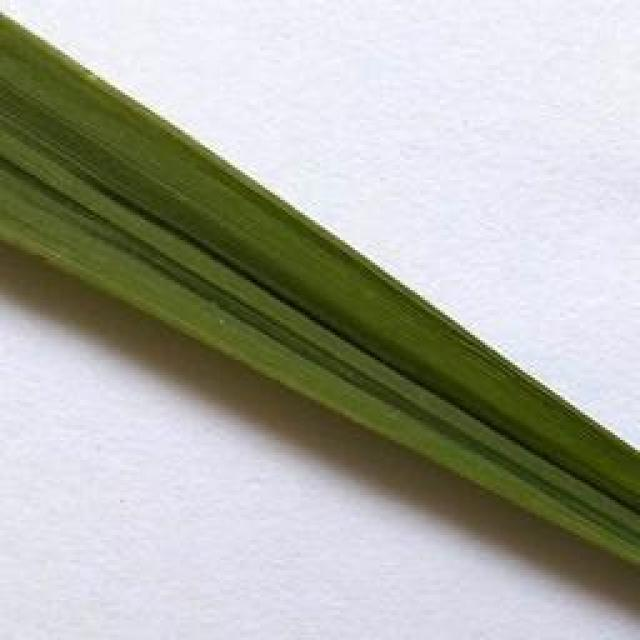Healthy-Plant: (0, 4, 640, 573)
